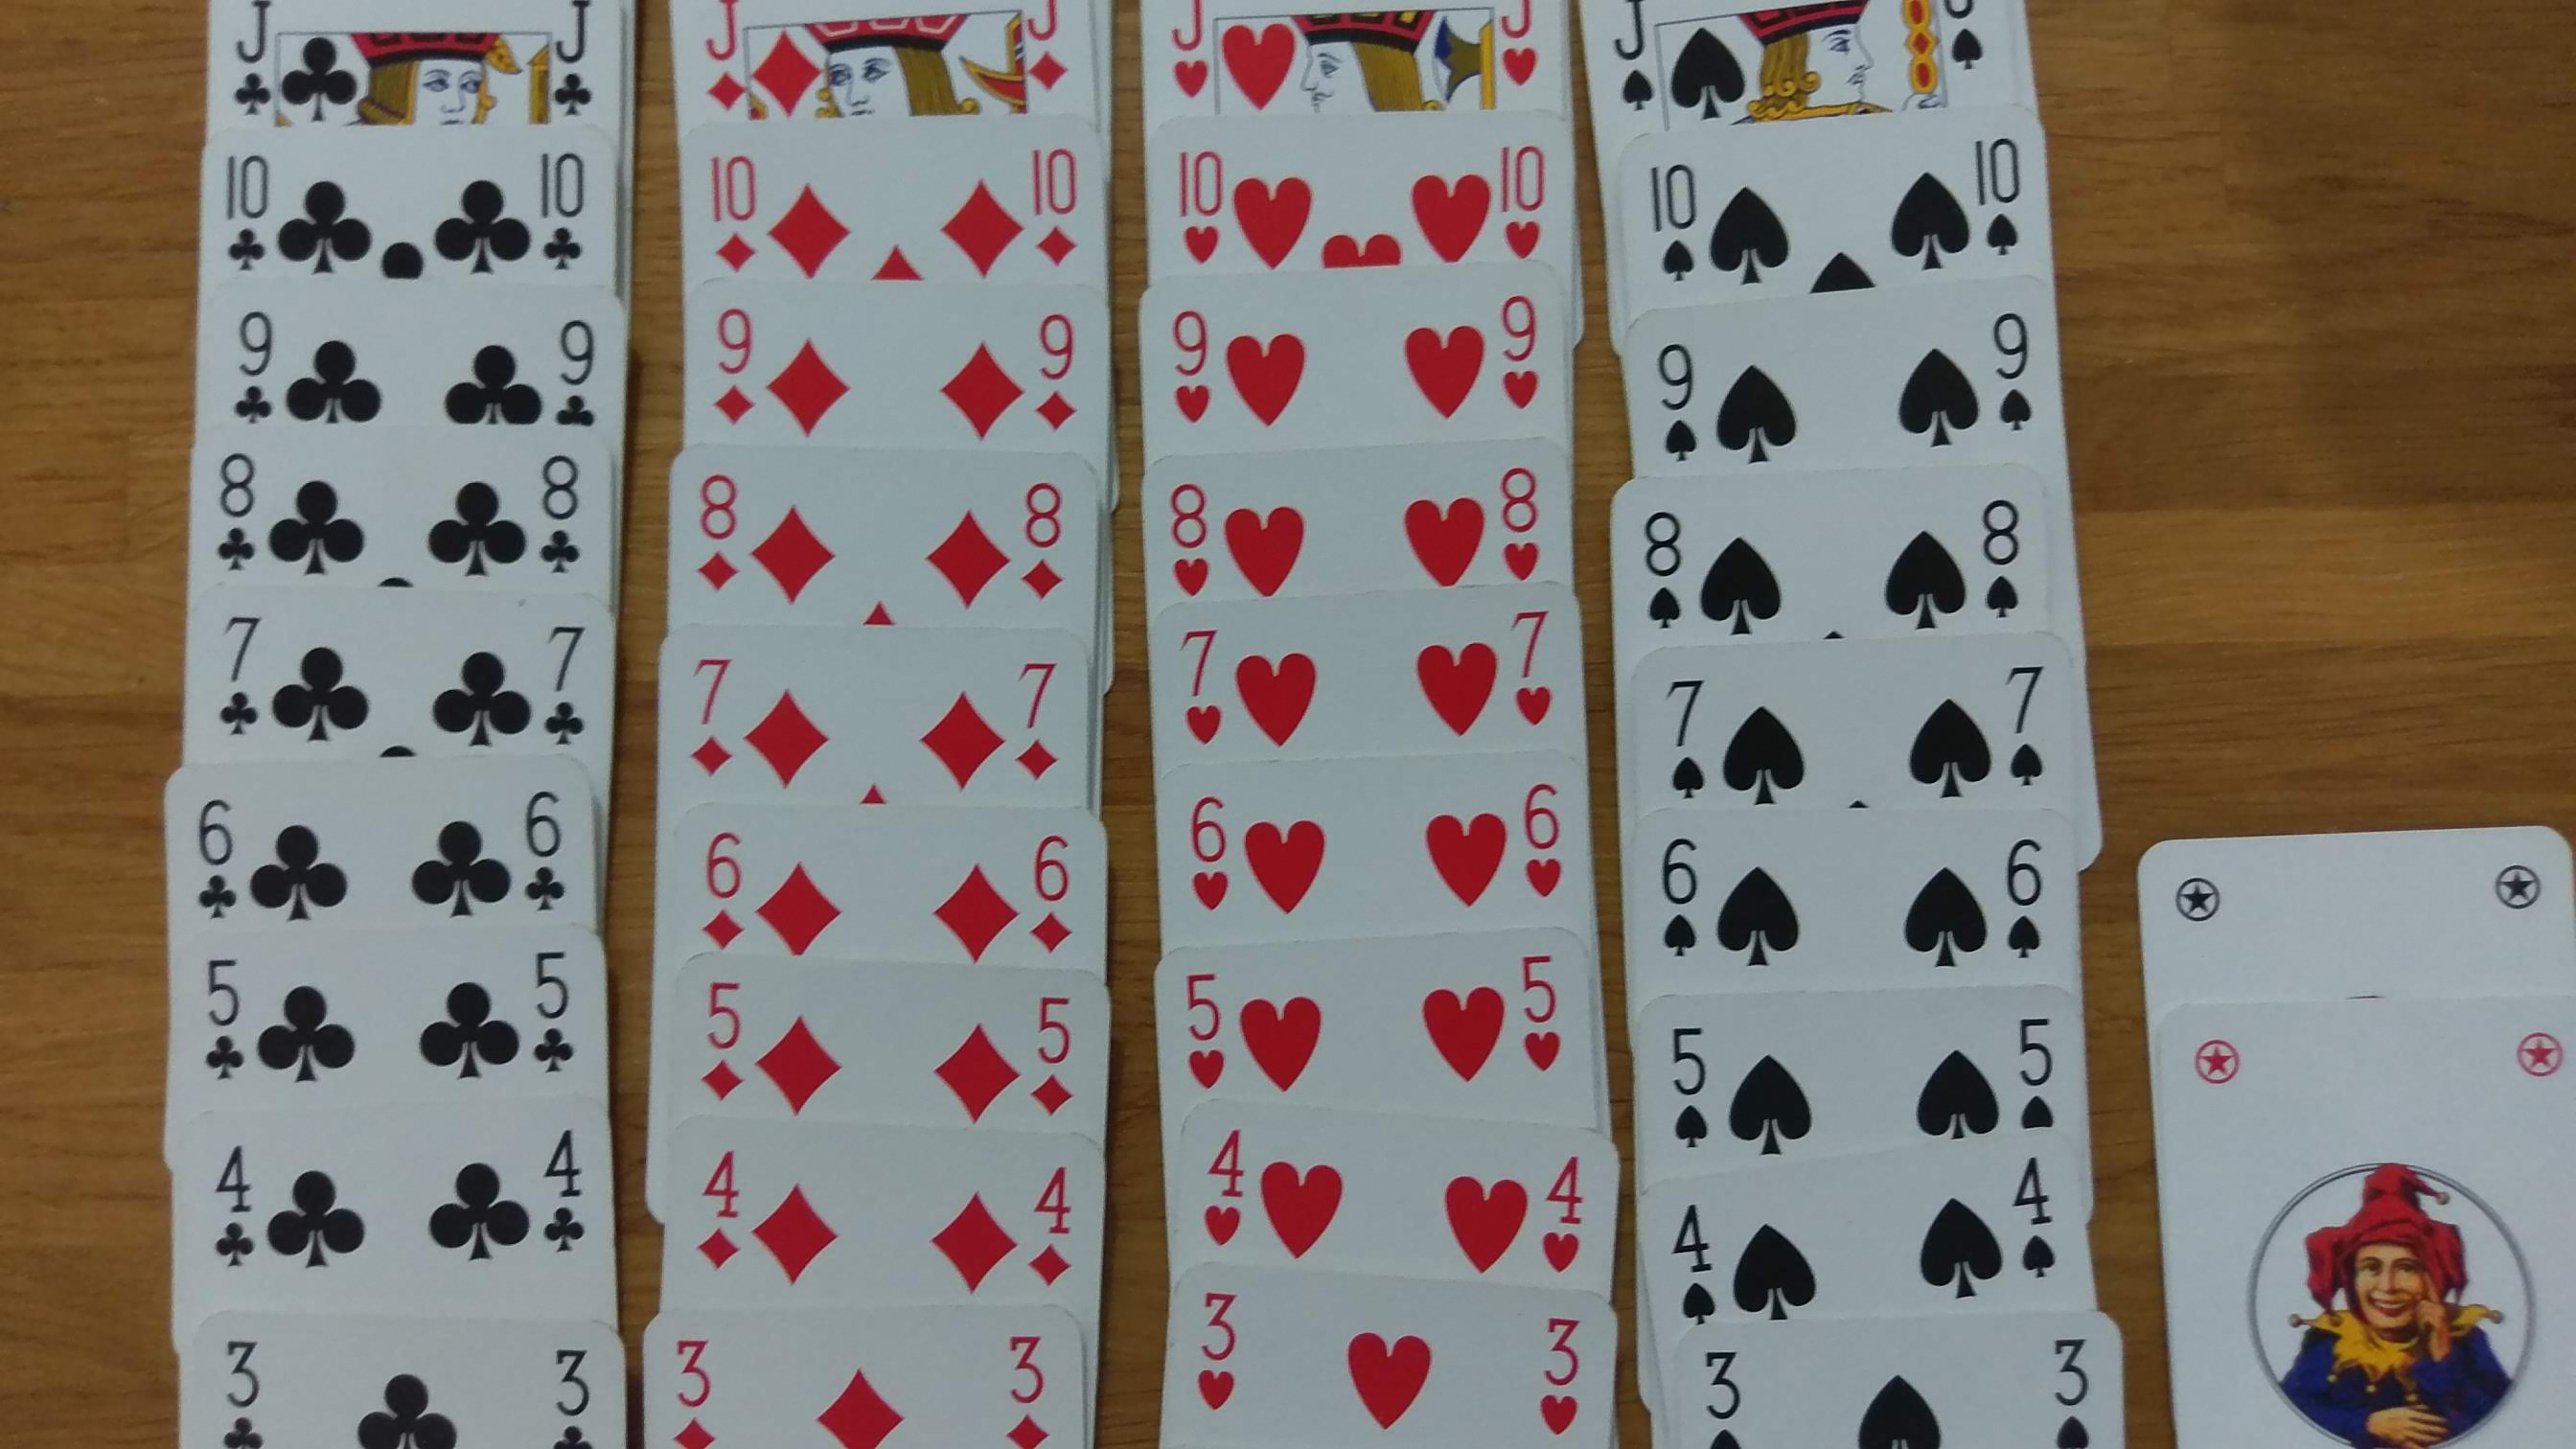10F: (511, 129, 614, 290), (214, 134, 280, 295)
4F: (533, 1104, 603, 1279), (205, 1120, 274, 1286)
5F: (198, 936, 264, 1086), (520, 943, 584, 1079)
6F: (511, 764, 587, 936), (173, 782, 253, 936)
7F: (189, 593, 274, 748), (533, 609, 593, 752)
8F: (517, 442, 607, 596), (196, 435, 274, 575)
9F: (223, 301, 311, 433), (548, 306, 614, 456)
